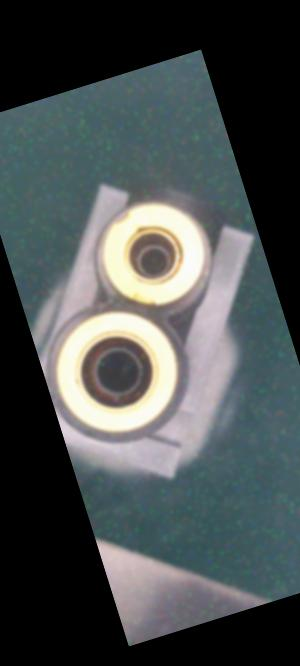bump: (108, 206, 139, 230)
